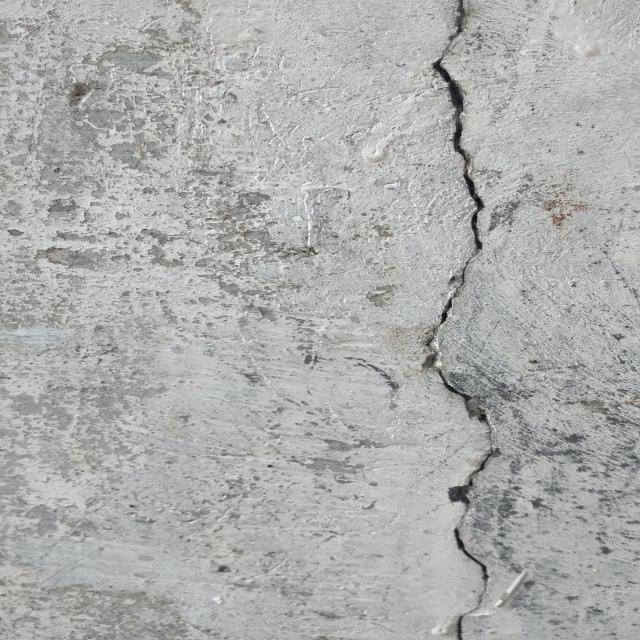Crack: (415, 1, 510, 640)
